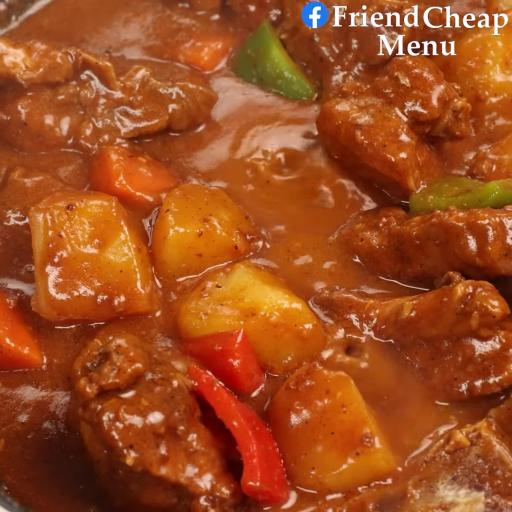pork caldereta: (0, 57, 512, 510)
